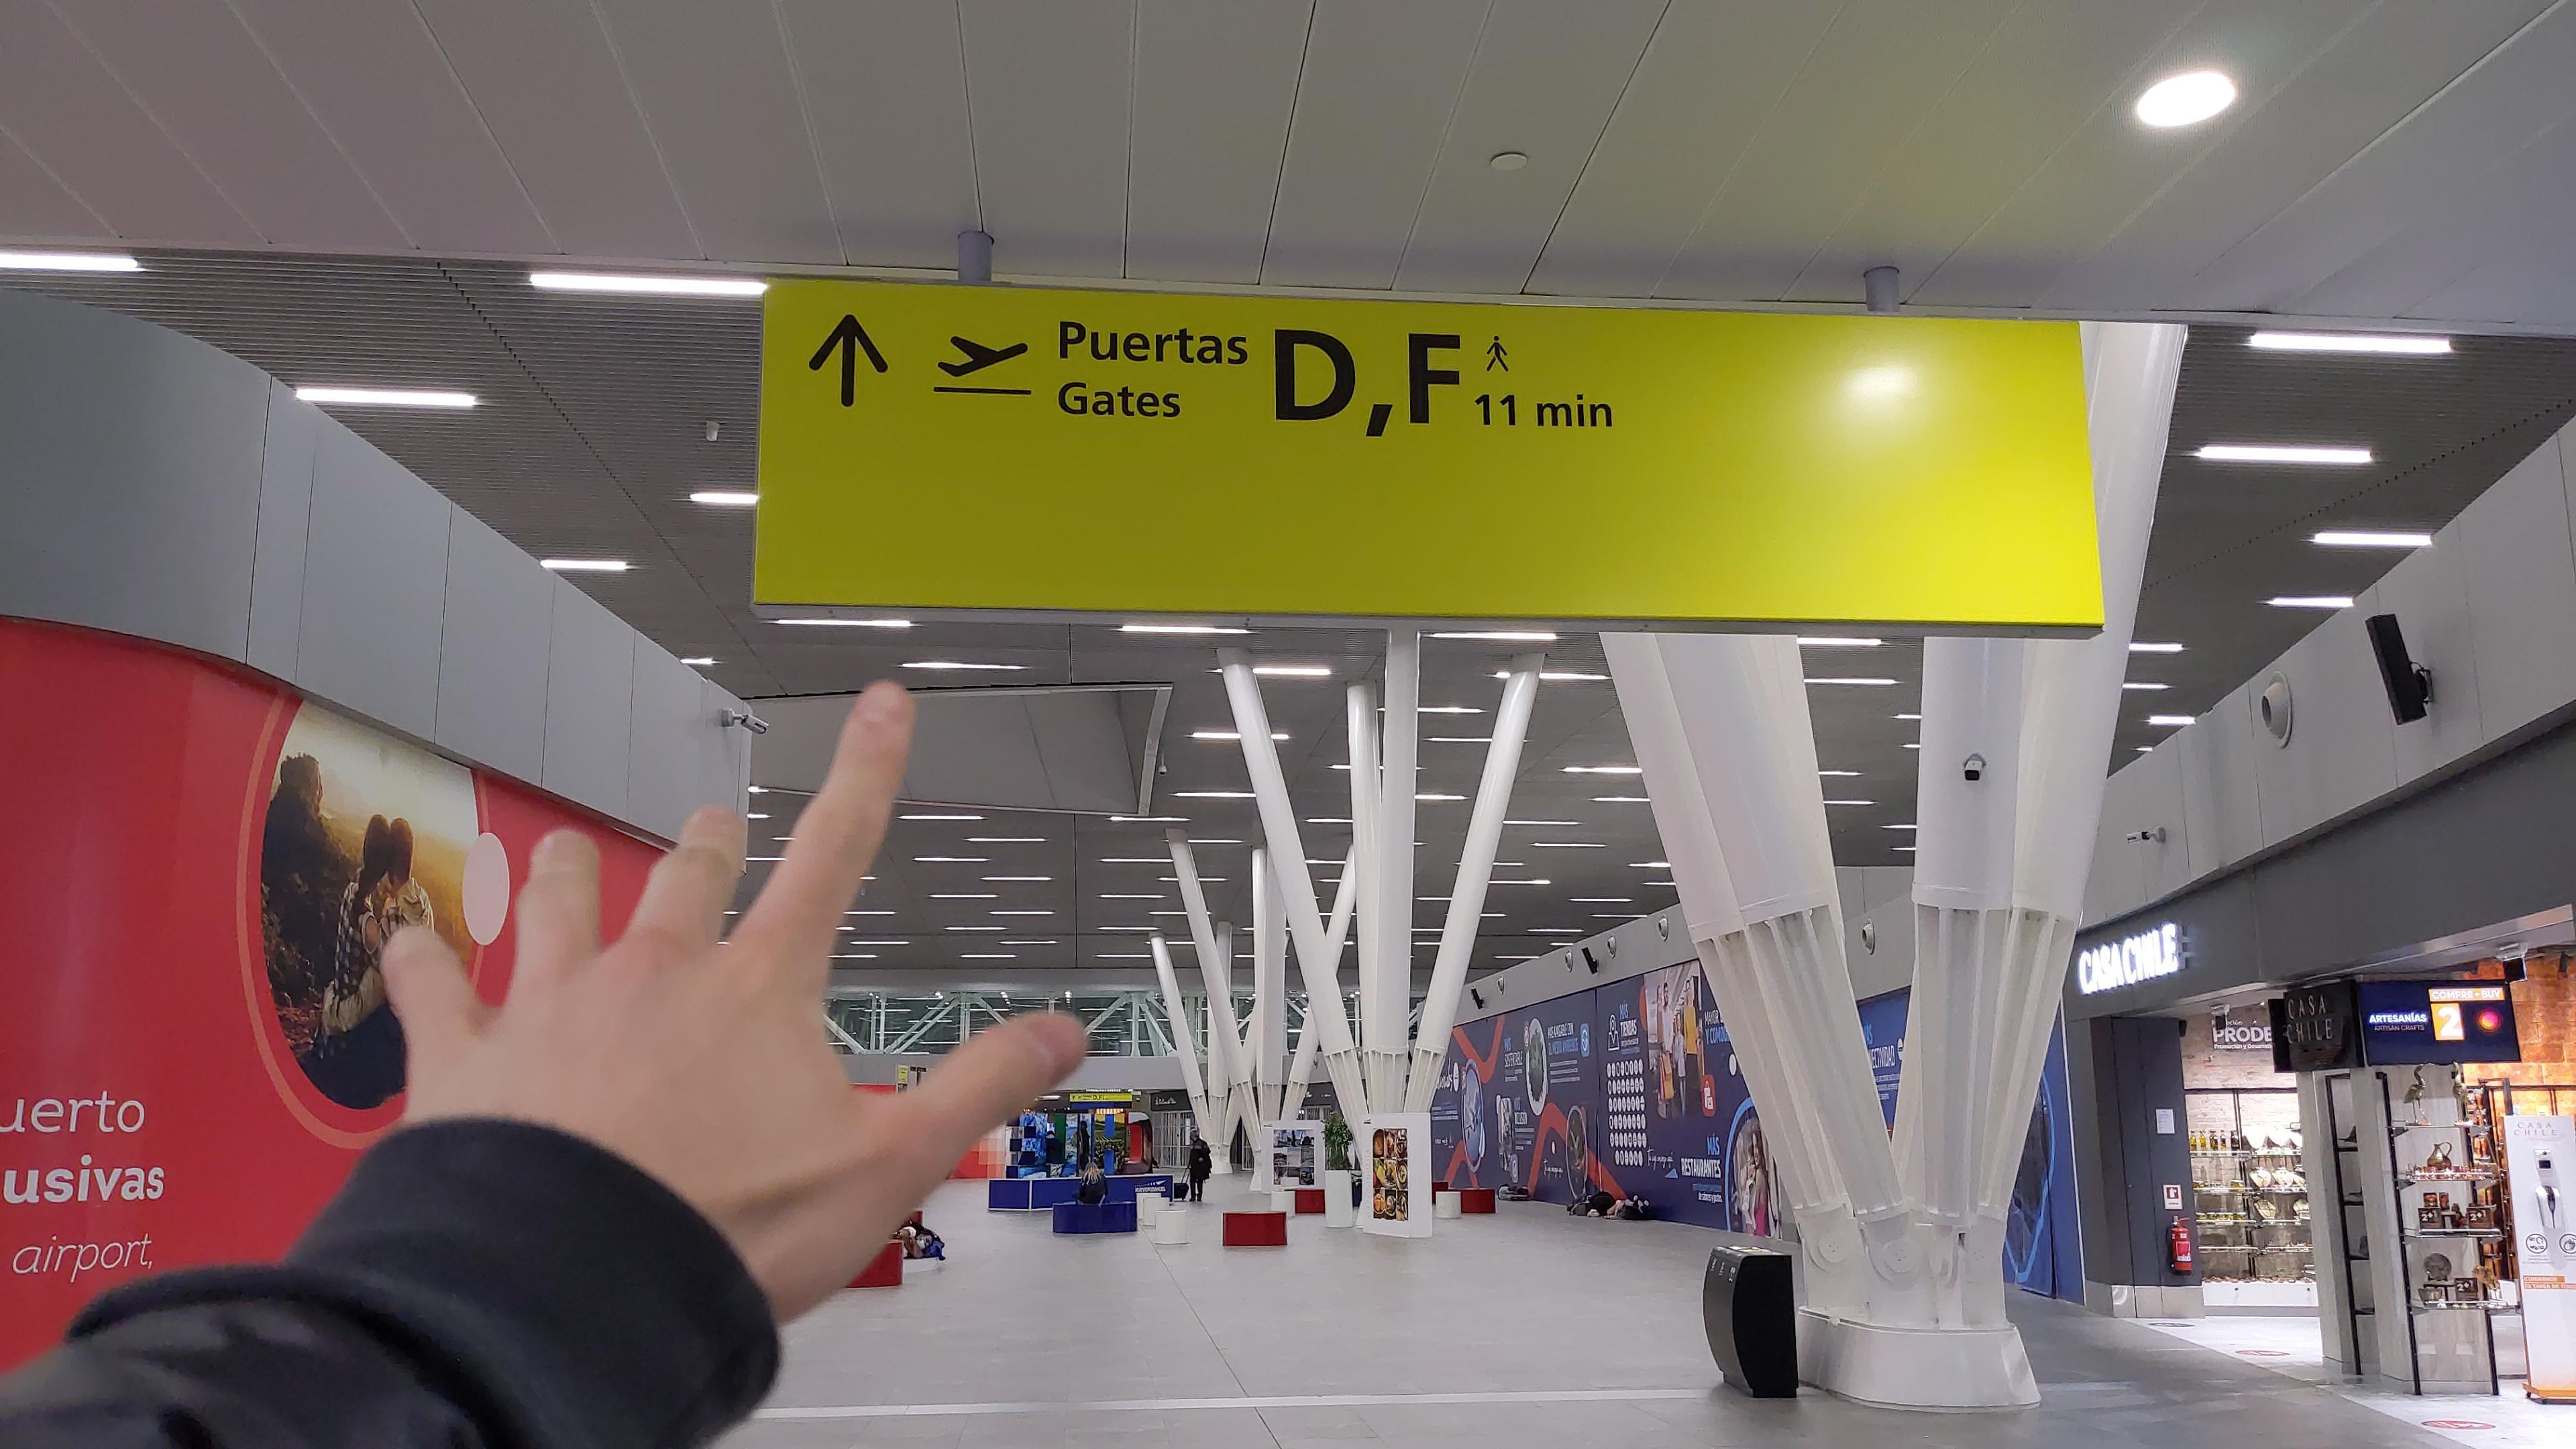airplane symbol: (939, 331, 1031, 380)
thin up arrow: (805, 310, 893, 416)
